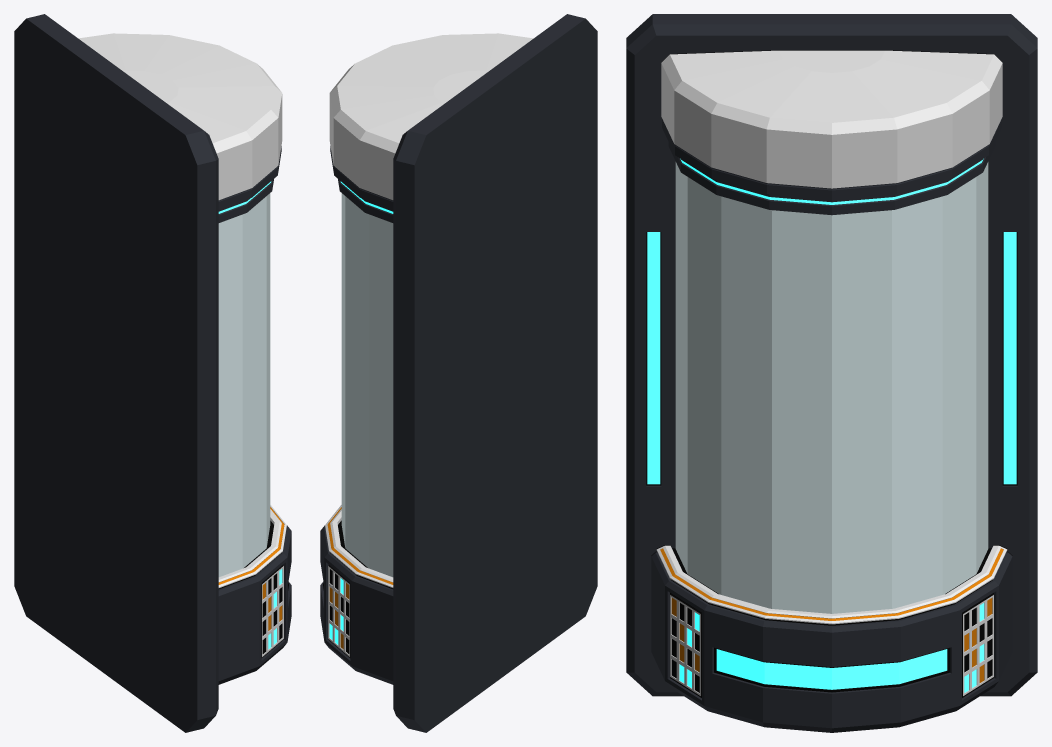
File: SM_Aquatic_GrowthPod.fbx
The picture shows the model from 3 angles, left to right: view 1: azimuth 30°, elevation 25°; view 2: azimuth 150°, elevation 25°; view 3: azimuth 270°, elevation 25°; orthographic projection. The views are drawn at different scales.
Visible parts, largest first — view 1: SM_Aquatic_GrowthPod; view 2: SM_Aquatic_GrowthPod; view 3: SM_Aquatic_GrowthPod.
Boxes of the visible parts, bbox=[...] form: SM_Aquatic_GrowthPod: bbox=[14, 14, 291, 732]; SM_Aquatic_GrowthPod: bbox=[320, 14, 597, 732]; SM_Aquatic_GrowthPod: bbox=[626, 14, 1037, 732].
Size of the model in its own units: 55.01 by 190 by 105.
